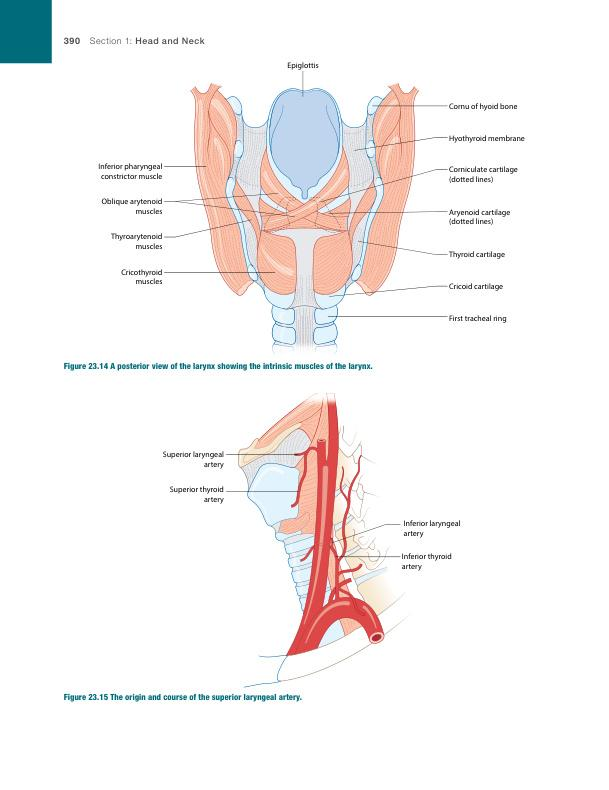caption: (63, 362, 374, 372), (63, 692, 303, 703)
header: (89, 36, 206, 45)
image: (82, 50, 540, 361), (128, 380, 516, 690)
